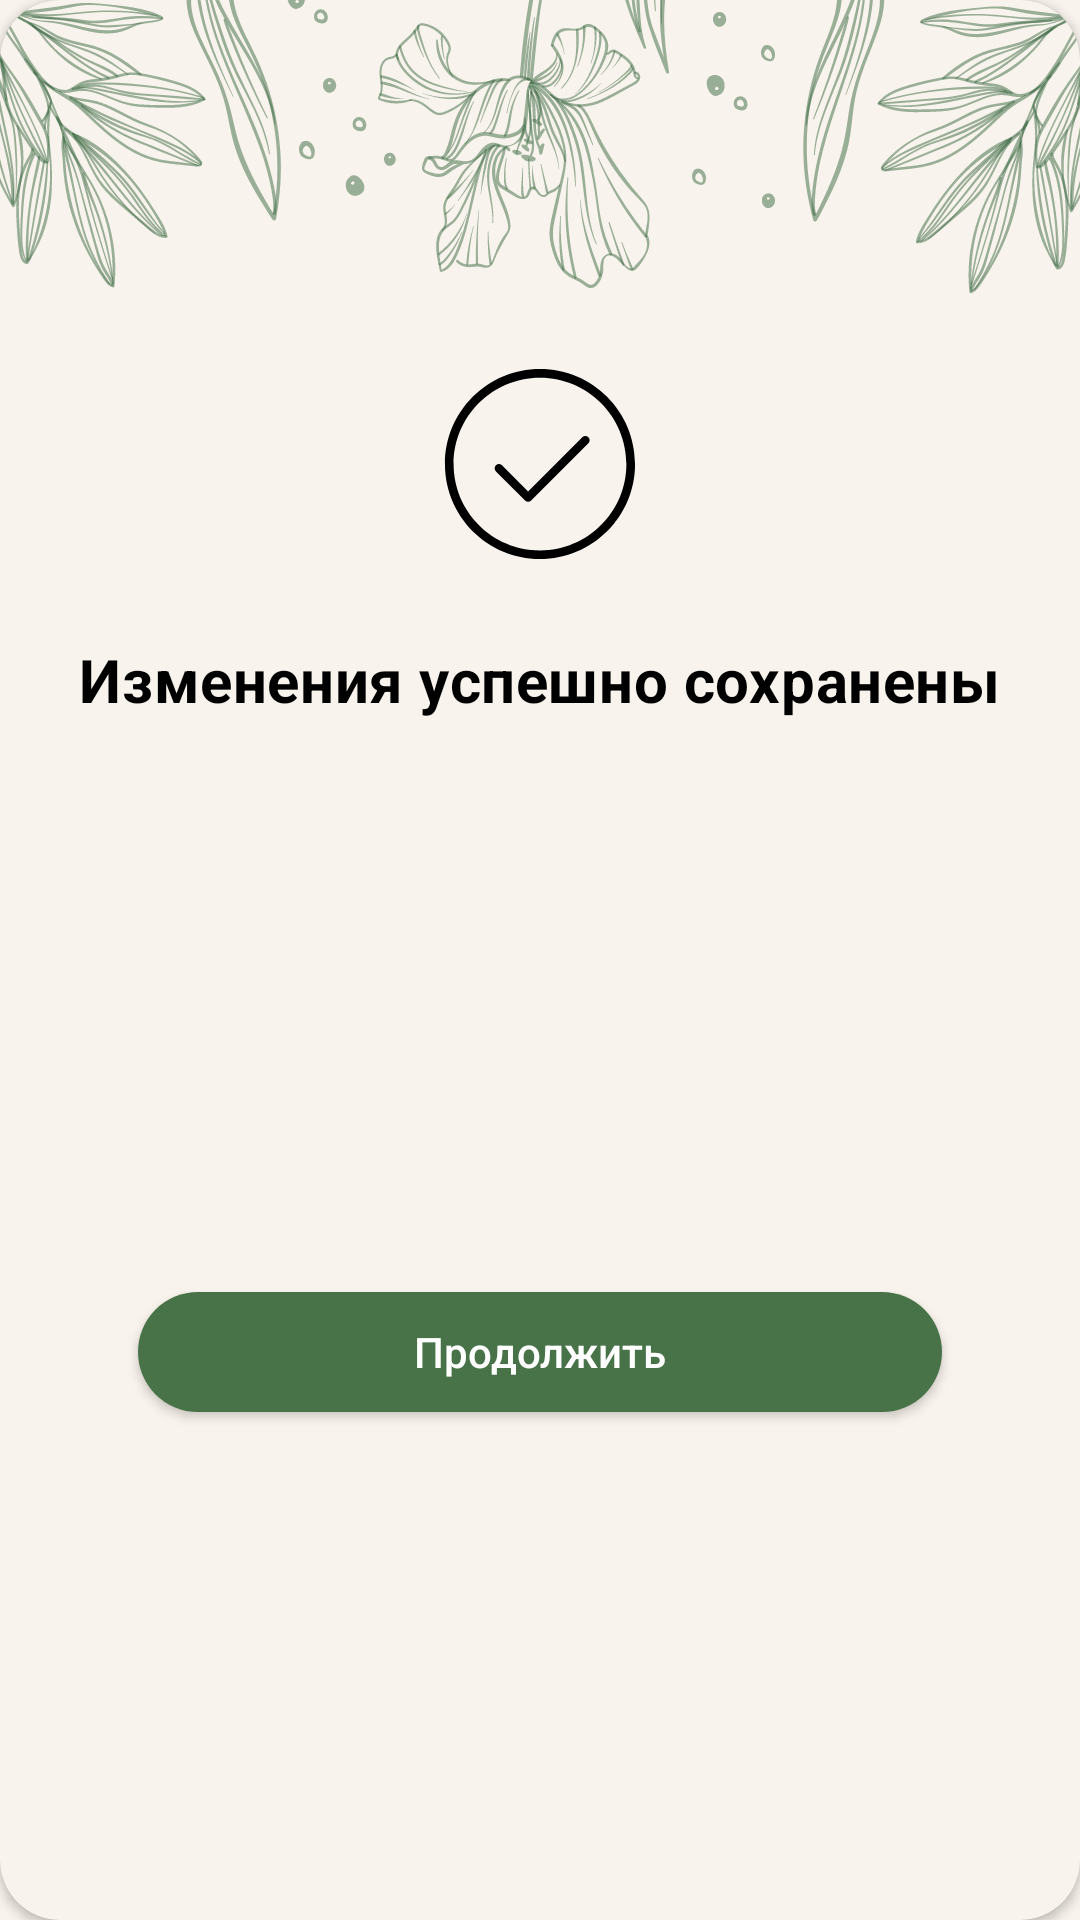

Icon click points for this 1080×1920 phone screenshot, format point (x, y):
galochka: point (539, 464)
